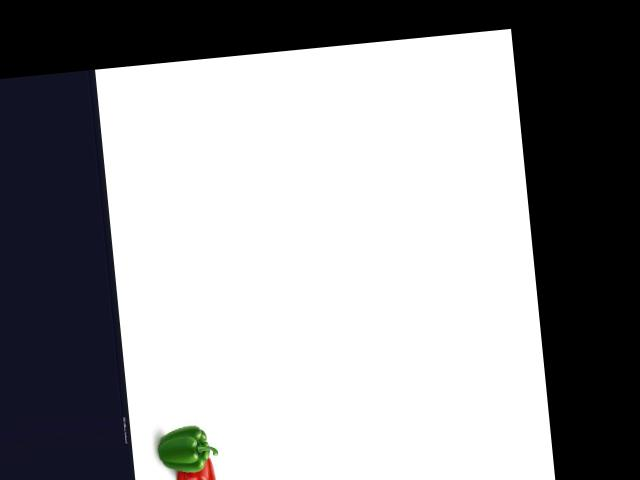bell_pepper: (176, 455, 222, 480)
